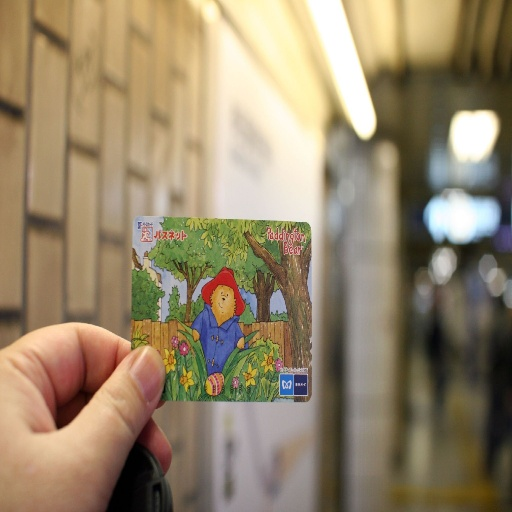hand: (0, 319, 182, 511)
